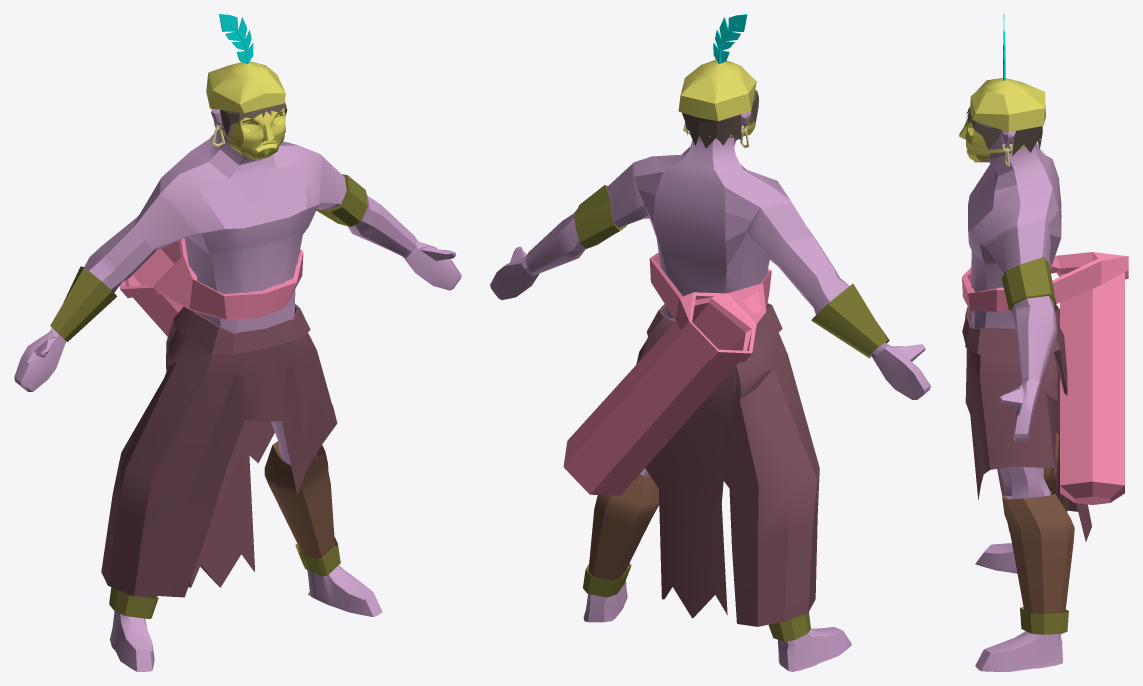
Rendered from Cuerpo_Picaro.fbx.
3 views of the same model, side by side, from view 1: azimuth 30°, elevation 25°; view 2: azimuth 150°, elevation 25°; view 3: azimuth 270°, elevation 25° (orthographic). The views are drawn at different scales.
Visible parts, largest first — view 1: Cuerpo_Picaro, Falda1, pCylinder4, Mascara1, Pelo; view 2: Cuerpo_Picaro, Falda1, pCylinder4, Pelo; view 3: Cuerpo_Picaro, pCylinder4, Falda1, Pelo, Mascara1.
Boxes of the visible parts, bbox=[...] form: Cuerpo_Picaro: bbox=[14, 14, 461, 671]; Falda1: bbox=[101, 304, 337, 597]; pCylinder4: bbox=[119, 238, 303, 336]; Mascara1: bbox=[218, 108, 285, 159]; Pelo: bbox=[211, 102, 287, 136]; Cuerpo_Picaro: bbox=[490, 14, 930, 671]; Falda1: bbox=[636, 303, 819, 626]; pCylinder4: bbox=[563, 252, 771, 495]; Pelo: bbox=[682, 90, 758, 148]; Cuerpo_Picaro: bbox=[968, 14, 1074, 671]; pCylinder4: bbox=[962, 252, 1128, 504]; Falda1: bbox=[962, 305, 1091, 541]; Pelo: bbox=[966, 107, 1042, 155]; Mascara1: bbox=[959, 116, 1040, 162].
Size of the model in its own units: 5.77 by 7.84 by 2.04.
